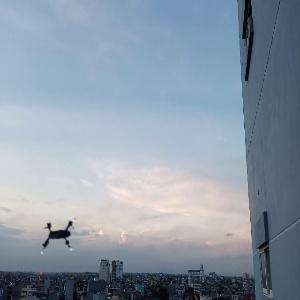drone: (33, 211, 92, 270)
